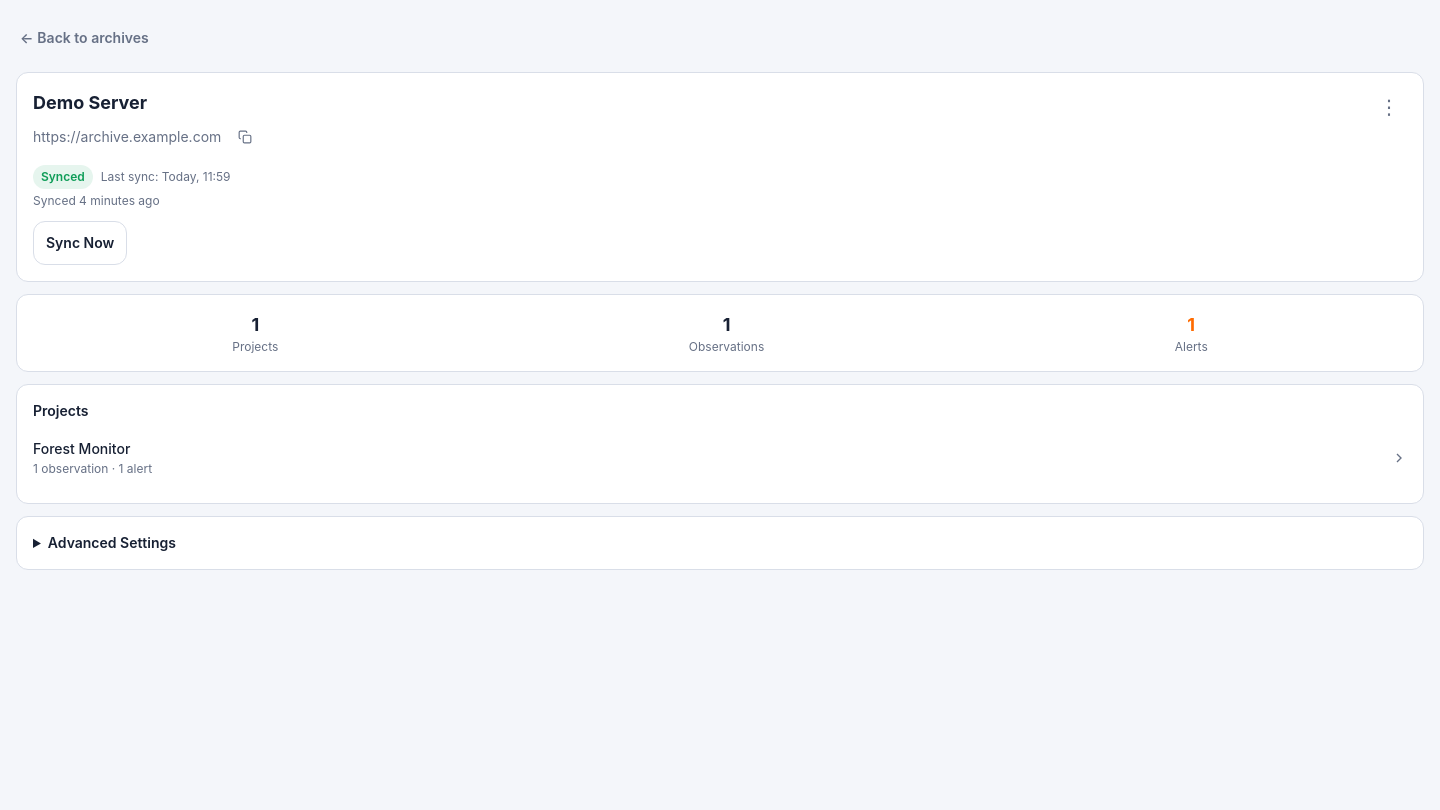
Test case: ArchiveServerDetail › opens overflow actions, closes them on outside click, and copies from the menu
The width and height of the screenshot is (1440, 810).
What coordinates should you click on to do the following:
click the button named "archive actions"
I would click on:
 (1389, 107)
Its box is x1=1371 y1=89 x2=1407 y2=125.
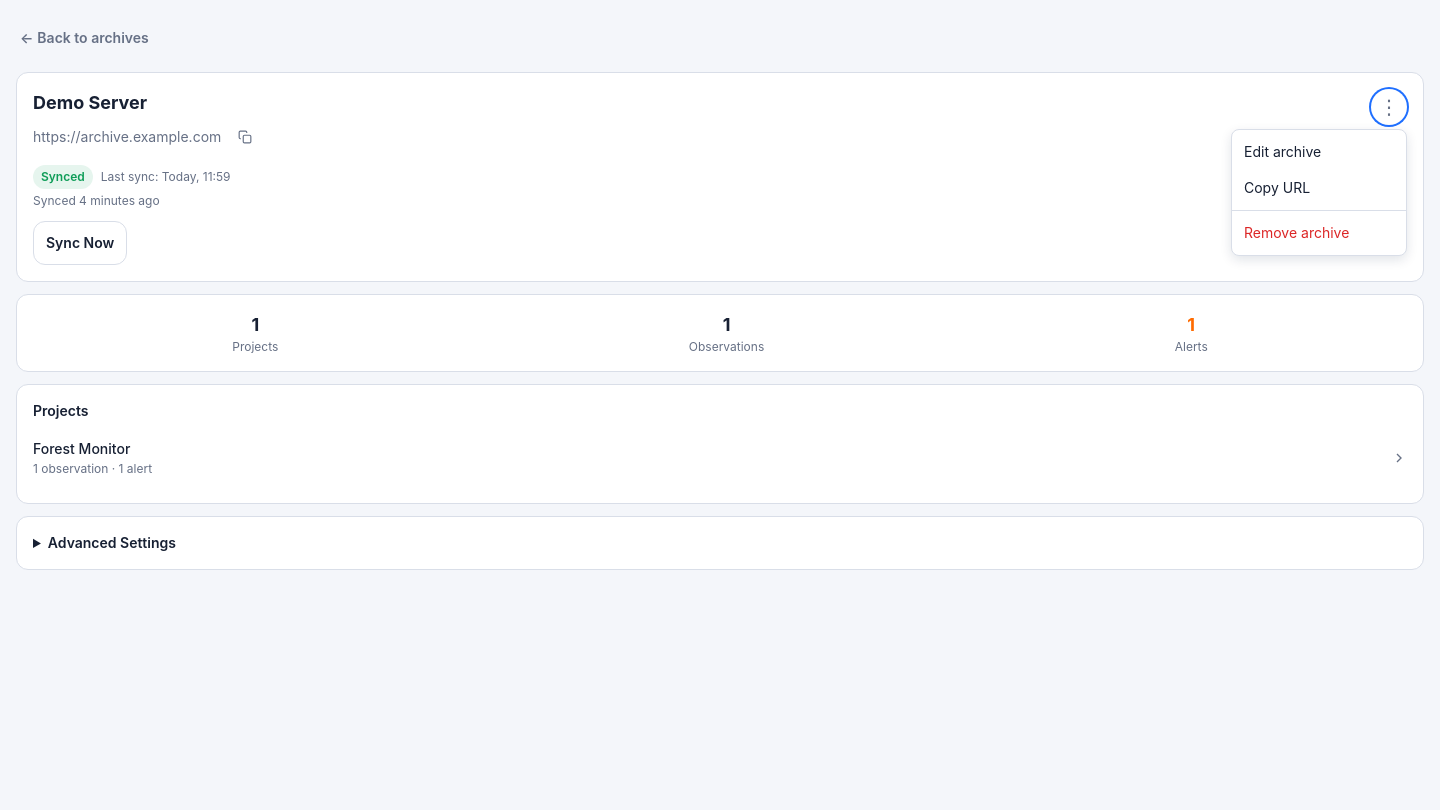
Expected: the menu item "Edit archive" is shown, x1=1232 y1=134 x2=1406 y2=170
What coordinates should you click on to do the following:
click the element that starts with "Back to archives"
I would click on:
 (720, 301)
Its box is x1=0 y1=0 x2=1439 y2=602.
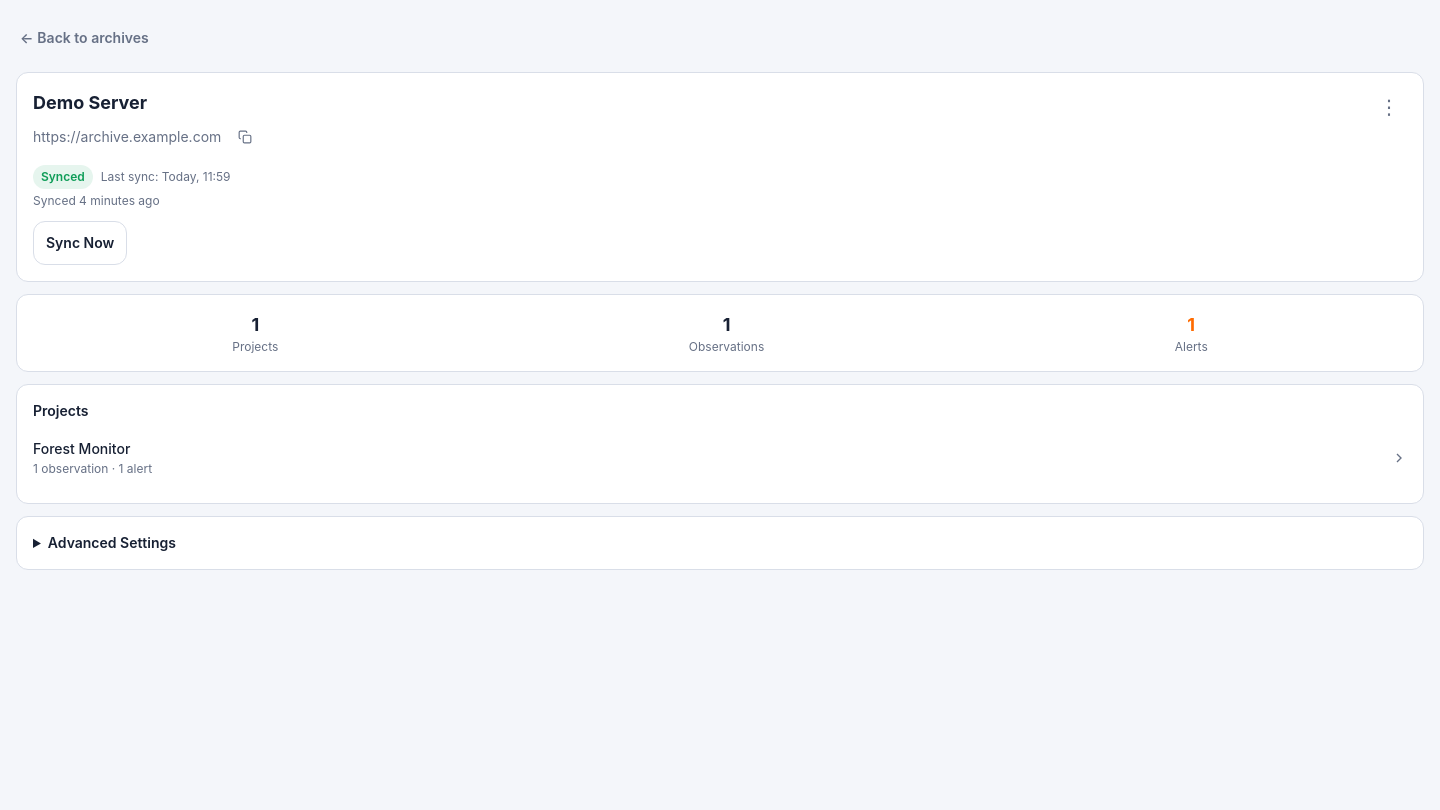
Expected: the menu item "Edit archive" is gone
What coordinates should you click on to do the following:
click the button named "archive actions"
I would click on:
 (1389, 107)
Its box is x1=1371 y1=89 x2=1407 y2=125.
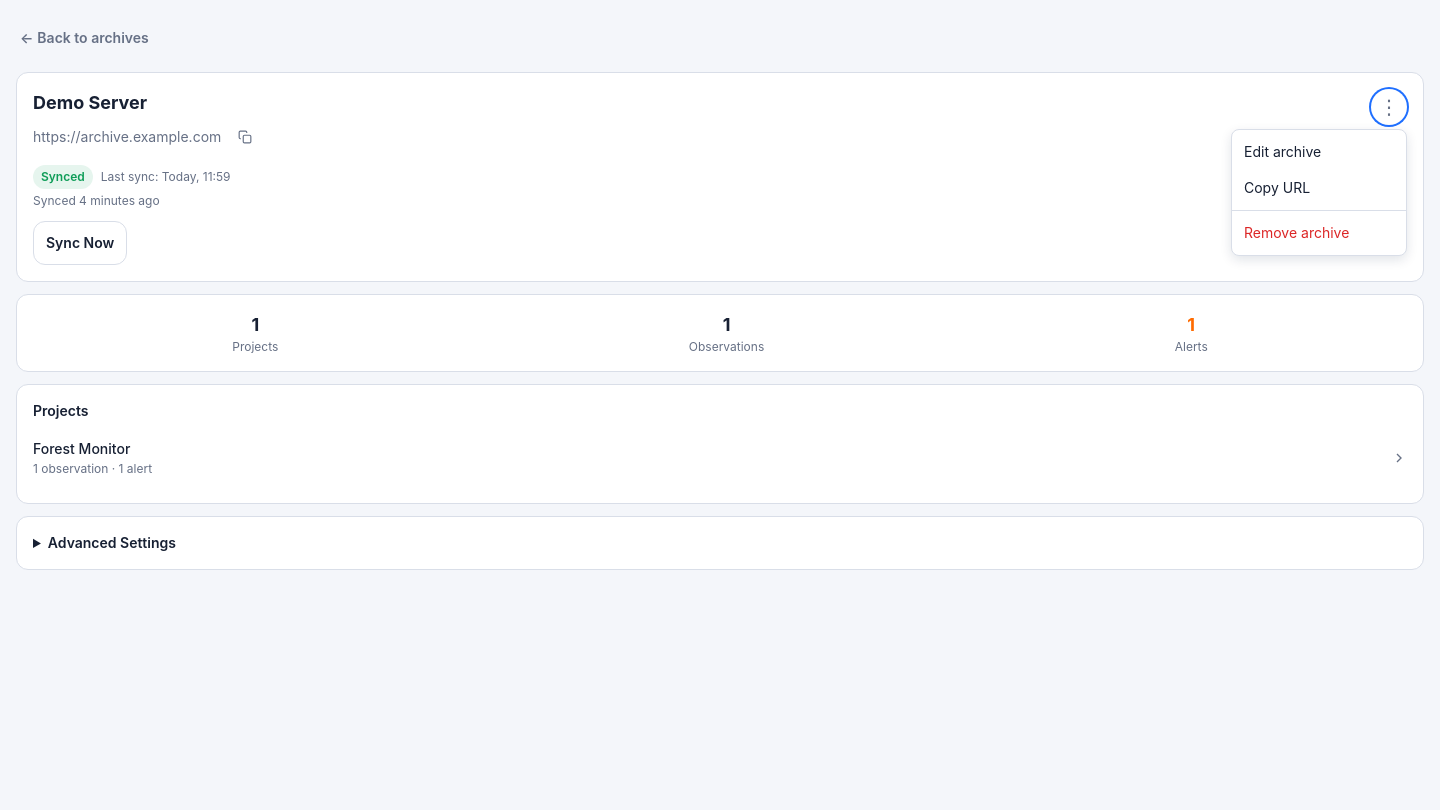
What coordinates should you click on to do the following:
click the menu item "Copy URL"
I would click on:
 (1319, 188)
Its box is x1=1232 y1=170 x2=1406 y2=206.
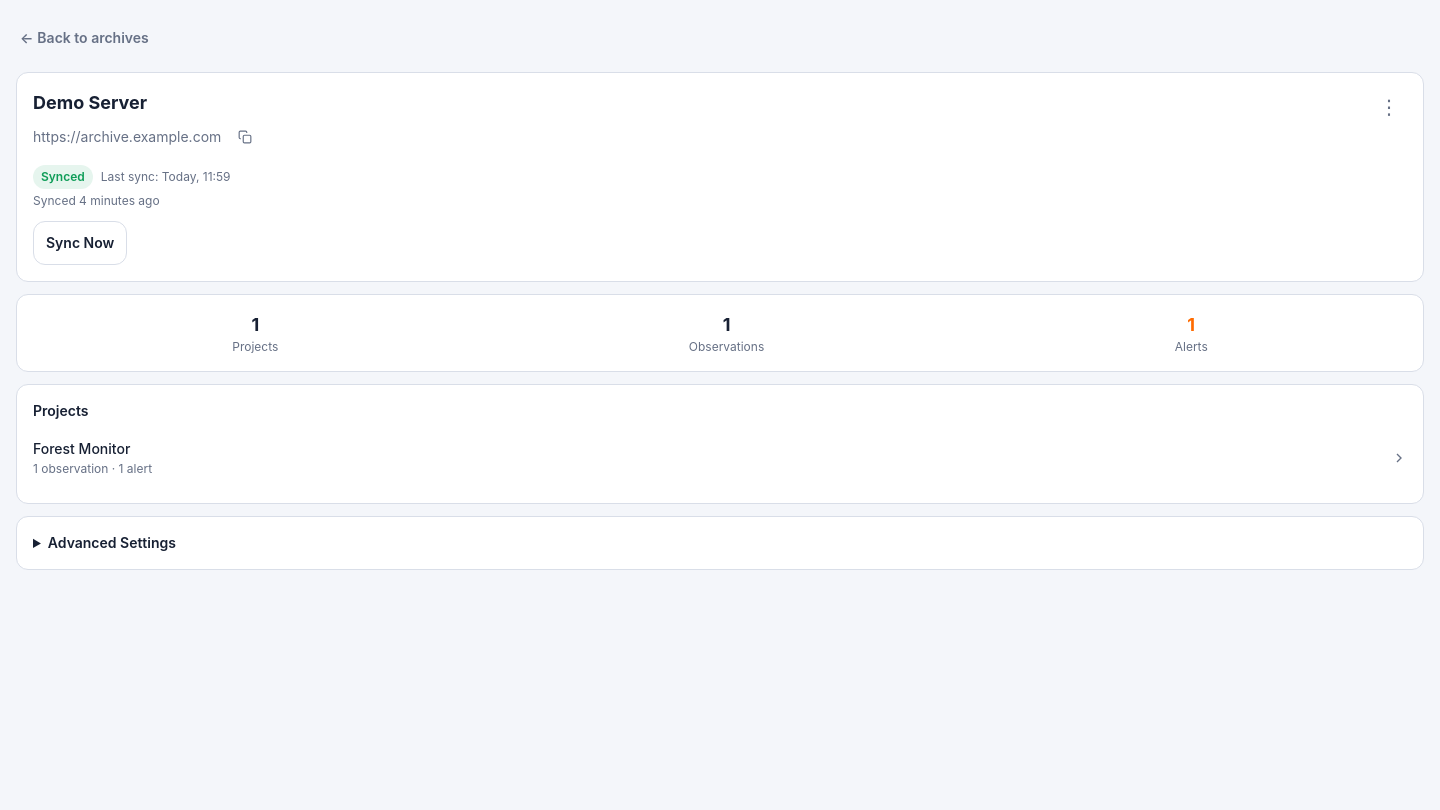
Expected: the menu item "Copy URL" is gone
